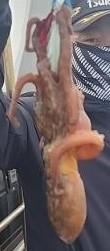Cephalopod: (8, 2, 106, 246)
